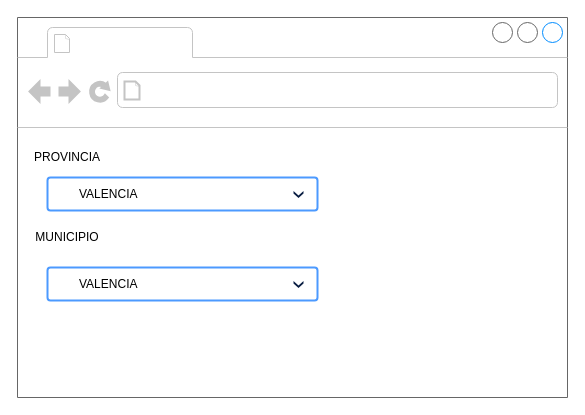
Image size: 585x415. Some labels were removed from this diagram. Each missing label, with the centre of its shape:
"https://www.draw.io" belongs at point (272, 90).
"Page 1" belongs at point (132, 42).
